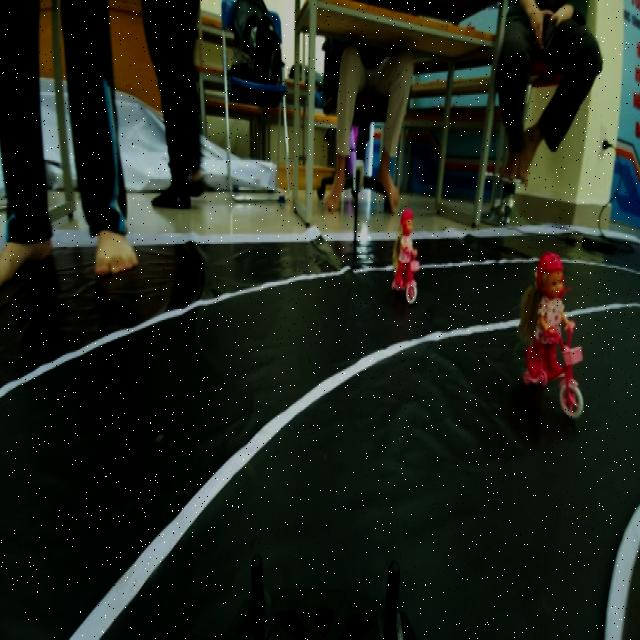pedestrian: (518, 234, 594, 433), (386, 203, 424, 307)
